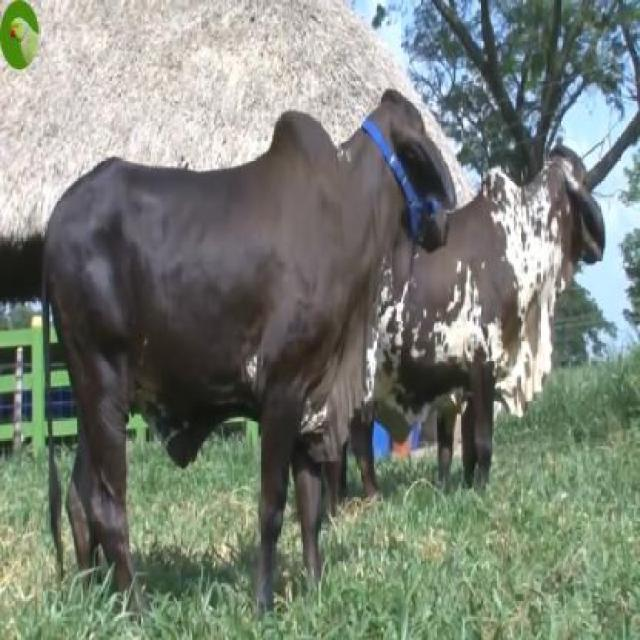Cow: (40, 88, 454, 614), (444, 146, 608, 494)
